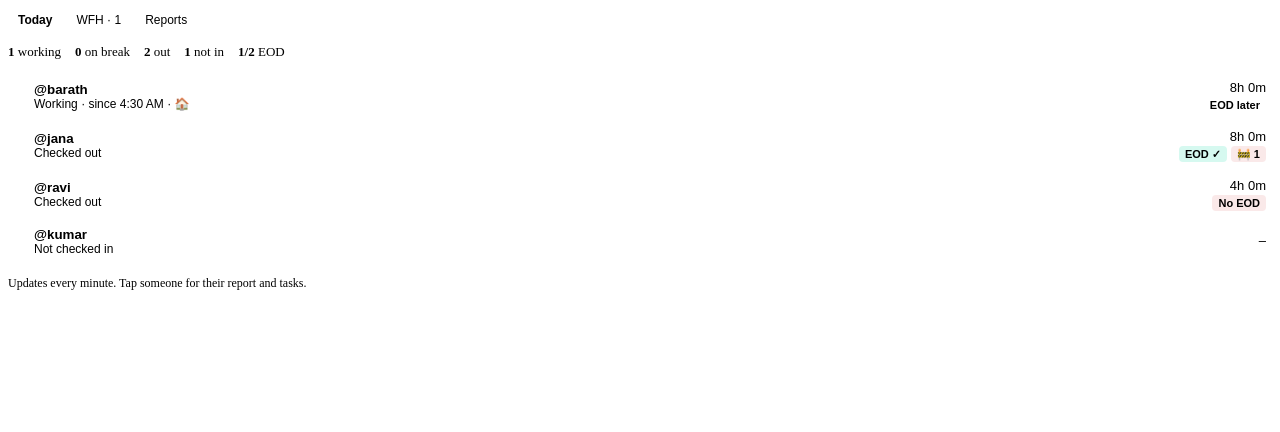
Test case: wfh: approve; reject needs a reason (the bot’s message is shown)
Click the tab "WFH · 1". click: coordinates (99, 20)
box: [66,8,131,32]
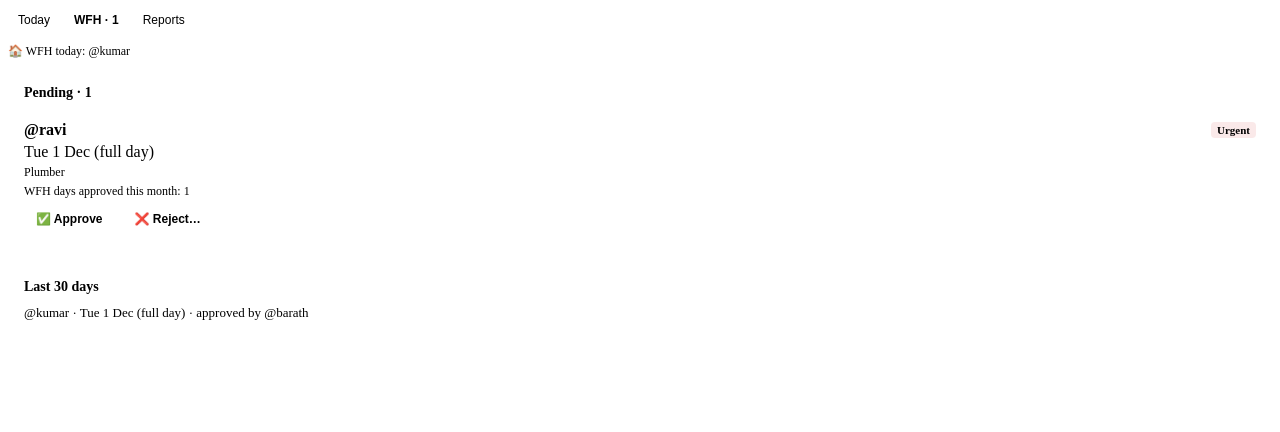
Now the text "Urgent" is shown, box [1211,122,1256,138]
Now the text "🏠 WFH today: @kumar" is shown, box [8,44,130,58]
Now the text "WFH days approved this month: 1" is shown, box [24,184,190,198]
Click the button "❌ Reject…". click: coordinates (168, 219)
box: [122,207,213,231]
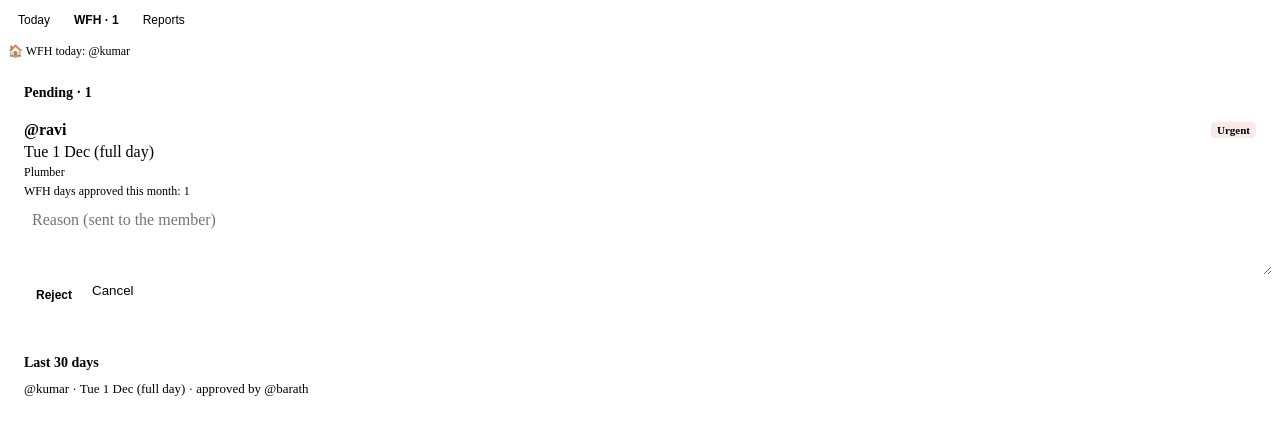
Click the button "Reject". click: coordinates (54, 295)
box: [24,283,84,307]
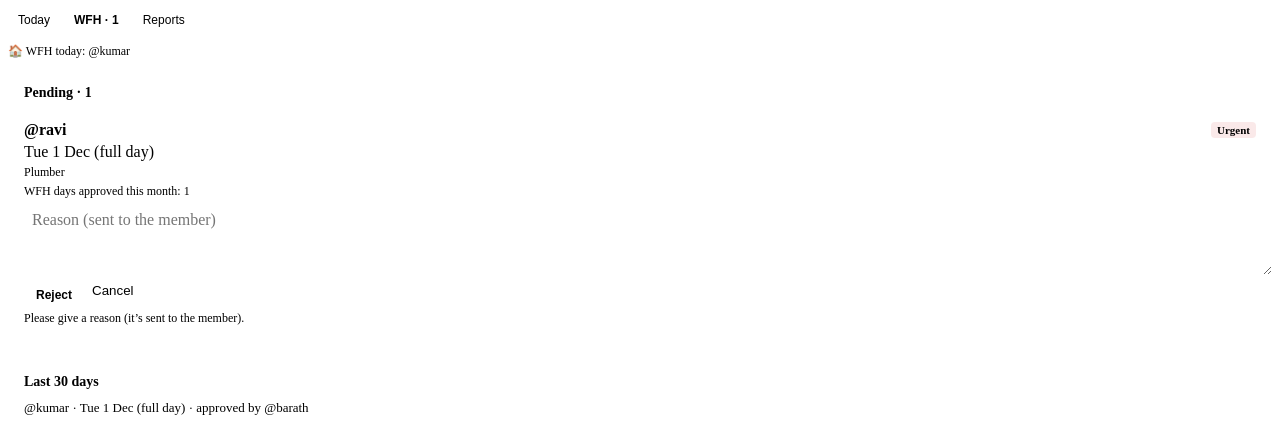
Now the text "Please give a reason (it’s sent to the member)." is shown, box [24,311,244,325]
Click the button "Cancel". click: coordinates (113, 290)
box: [92,283,134,298]
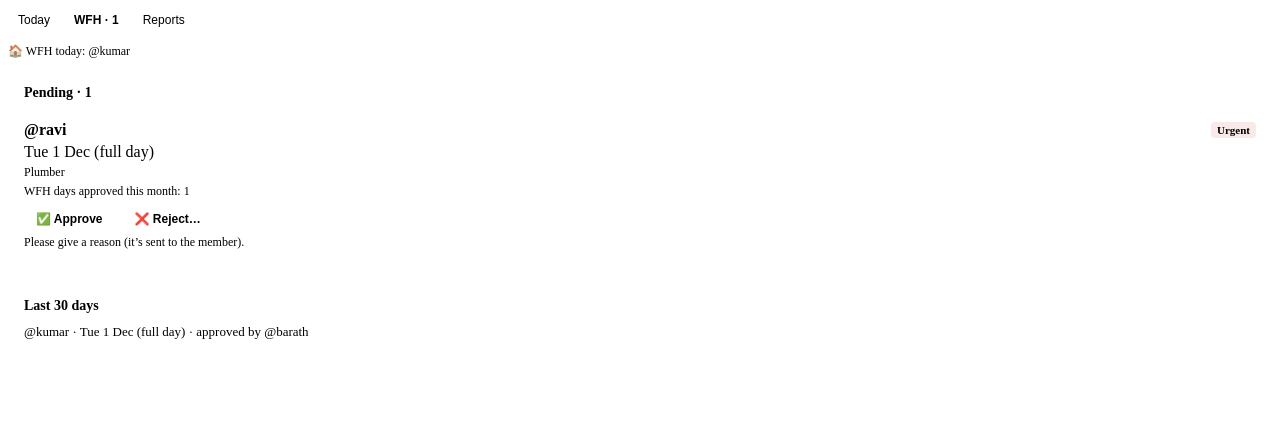
Click the button "✅ Approve". click: coordinates (69, 219)
box: [24,207,114,231]
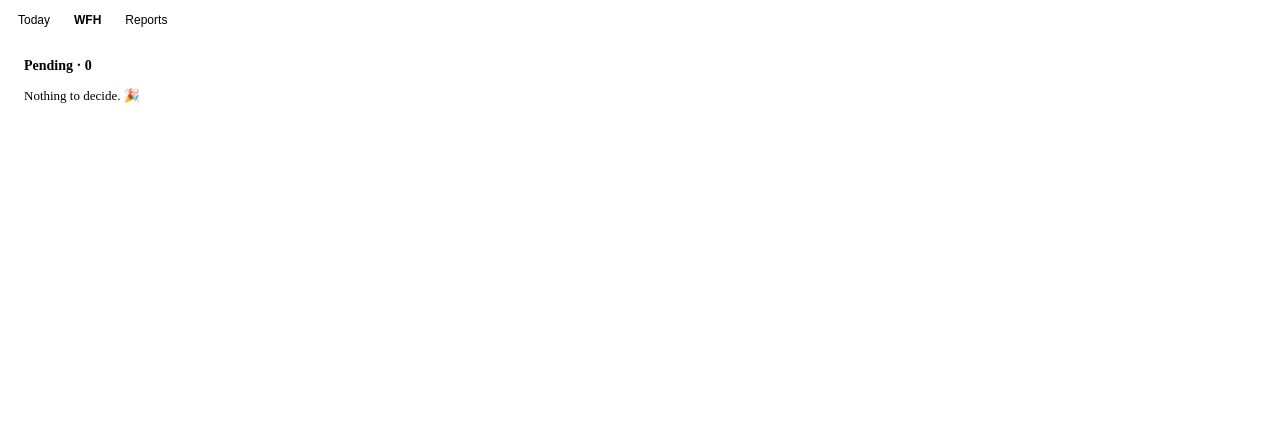
Expected: the tab "WFH" is shown, [64,8,111,32]
Now the text "Nothing to decide. 🎉" is shown, box [24,88,140,103]
